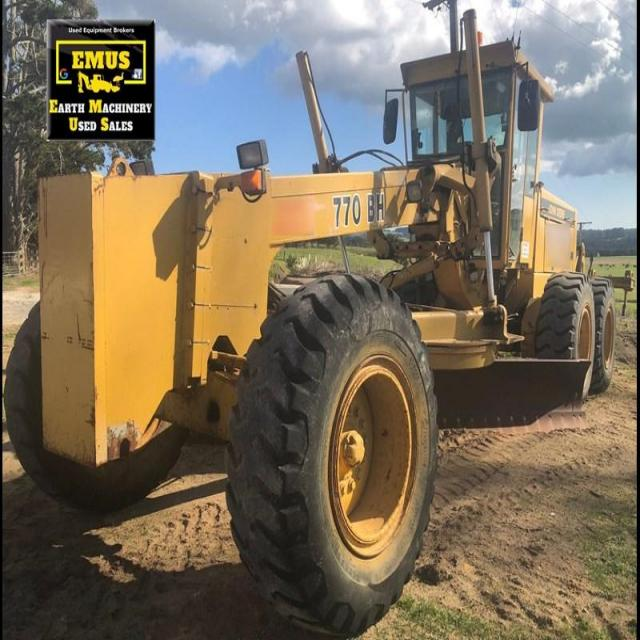Grader: (10, 32, 622, 630)
